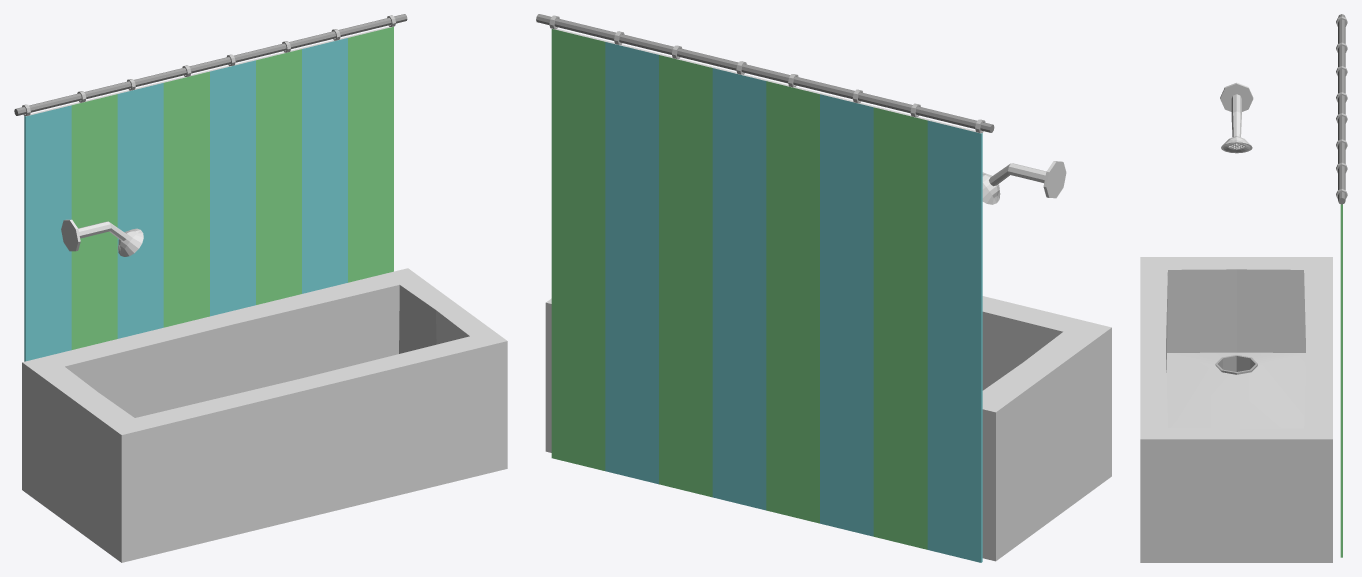
The model's file is Shower.fbx.
The picture shows the model from 3 angles, left to right: view 1: azimuth 30°, elevation 25°; view 2: azimuth 150°, elevation 25°; view 3: azimuth 270°, elevation 25°; orthographic projection. The views are drawn at different scales.
Visible parts, largest first — view 1: Shower; view 2: Shower; view 3: Shower.
Part boxes in pixels (bbox=[...]): Shower: bbox=[14, 14, 507, 562]; Shower: bbox=[536, 14, 1111, 562]; Shower: bbox=[1140, 14, 1347, 562].
Bounding box in the file's own units: 2.07 × 1.93 × 0.9835.
